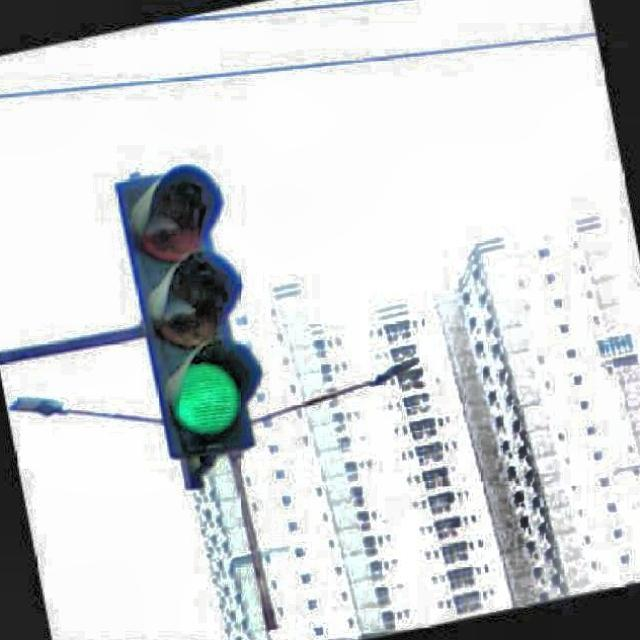green: (124, 176, 252, 460)
